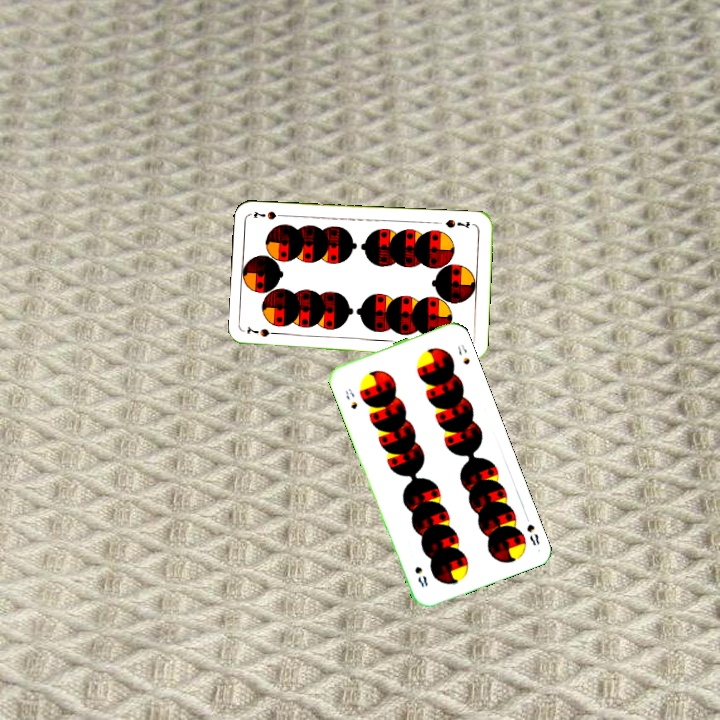S7: (243, 324, 283, 340), (441, 215, 472, 231)
S8: (521, 510, 542, 548), (341, 384, 360, 412)
